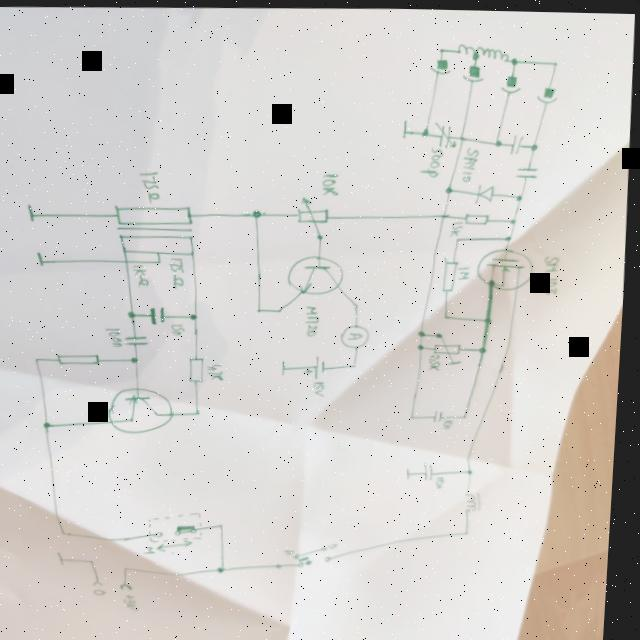capacitor: (435, 116, 459, 145), (517, 161, 542, 176), (153, 303, 172, 322), (433, 404, 454, 421), (510, 130, 525, 151), (427, 458, 442, 479), (128, 332, 154, 344)
crossover: (443, 208, 452, 216), (460, 131, 468, 139), (126, 256, 133, 263)
diode: (477, 179, 498, 200)
ground: (29, 202, 40, 220), (63, 549, 74, 565), (403, 116, 411, 136), (39, 249, 49, 265), (284, 356, 293, 373), (409, 463, 419, 477)
inductor: (476, 40, 511, 59), (464, 486, 489, 510), (456, 39, 477, 52)
junction: (253, 206, 267, 216), (510, 52, 521, 63), (531, 138, 542, 147), (447, 182, 458, 191), (134, 353, 145, 362), (131, 308, 142, 317), (423, 124, 432, 134), (495, 135, 506, 143), (421, 326, 432, 334), (47, 419, 58, 427), (437, 43, 448, 51), (193, 310, 204, 318), (487, 312, 498, 320), (38, 353, 47, 362), (472, 47, 481, 56), (482, 342, 492, 350), (471, 464, 481, 472), (278, 304, 288, 312), (507, 231, 518, 238), (517, 190, 526, 198), (512, 213, 521, 221), (551, 56, 561, 63), (259, 303, 267, 311), (357, 298, 365, 306), (422, 340, 431, 347), (224, 563, 232, 570), (469, 525, 477, 532), (159, 256, 167, 263), (199, 406, 208, 412), (95, 556, 104, 562), (467, 409, 474, 416), (129, 564, 137, 570), (67, 529, 75, 535), (457, 234, 465, 240), (356, 359, 363, 365), (447, 310, 454, 316), (414, 411, 421, 417), (225, 520, 232, 525), (282, 560, 289, 565)
resistor: (296, 192, 334, 238), (437, 327, 469, 363), (60, 349, 106, 365), (443, 257, 463, 288), (192, 355, 210, 380), (466, 208, 495, 222)
source: (306, 350, 333, 377)
switch: (151, 507, 213, 553), (297, 540, 343, 567)
terminal: (126, 581, 142, 589), (99, 578, 113, 585)
text: (543, 250, 566, 293), (141, 167, 166, 202), (420, 143, 448, 174), (462, 143, 483, 178), (170, 254, 191, 287), (307, 302, 326, 333), (324, 168, 343, 193), (110, 323, 129, 345), (136, 262, 154, 285), (212, 359, 230, 378), (130, 589, 147, 609), (173, 319, 191, 335), (317, 377, 332, 394), (434, 348, 447, 367), (461, 262, 475, 276), (453, 218, 467, 232), (441, 472, 451, 486), (448, 414, 459, 426), (99, 586, 115, 594), (149, 545, 162, 553), (289, 545, 302, 552), (334, 540, 345, 546)
transformer: (113, 201, 205, 254)
transistor: (111, 383, 181, 433), (478, 244, 539, 288), (289, 251, 349, 293)
